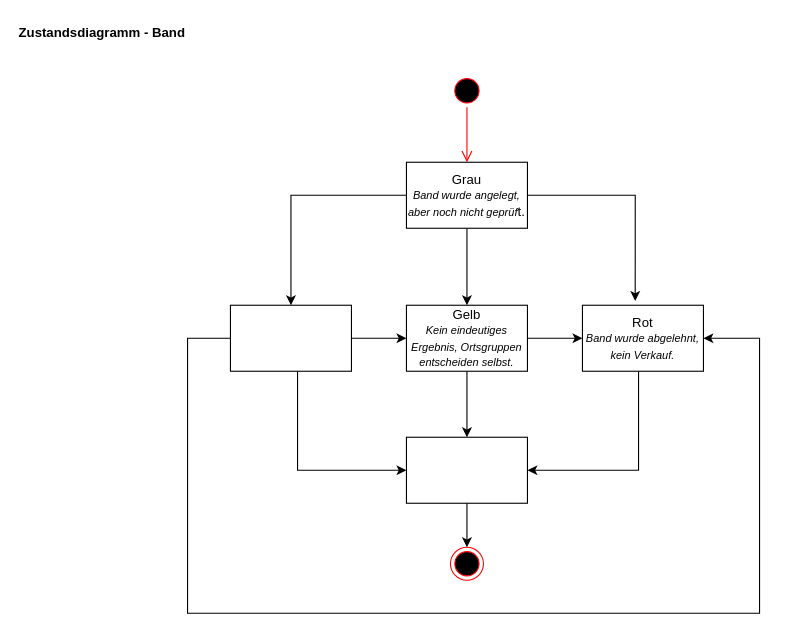
This 788x641 diagram has some shape labels left out. The shapes that lost their labels are listed below. From the top down, each one's centre as x and y in pixels, then its label:
the point at 290,337: Grün Verkauf ist erlaubt.
the point at 466,469: Archiviert Band existiert nicht mehr oder ist nicht mehr relevant.
